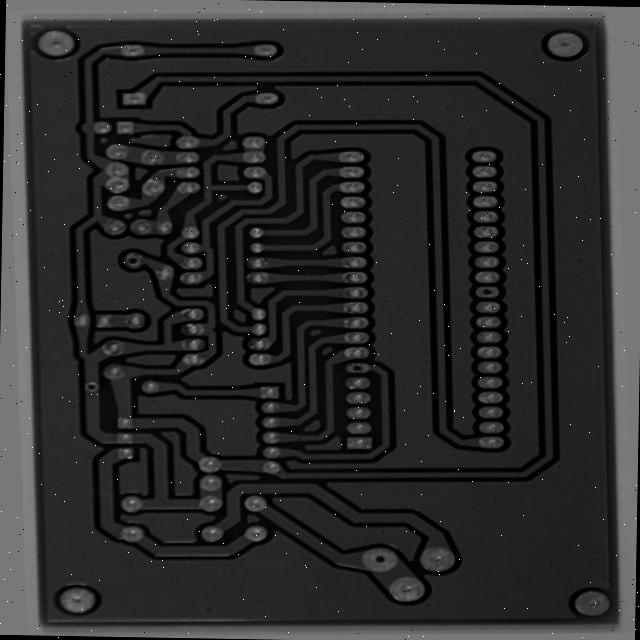missing_hole: (351, 552, 390, 579), (481, 286, 516, 303), (112, 243, 136, 262), (343, 360, 371, 376), (65, 373, 87, 390)
